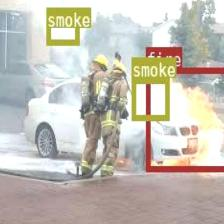fire: (145, 66, 224, 171)
smoke: (131, 77, 168, 119), (46, 7, 78, 44)
